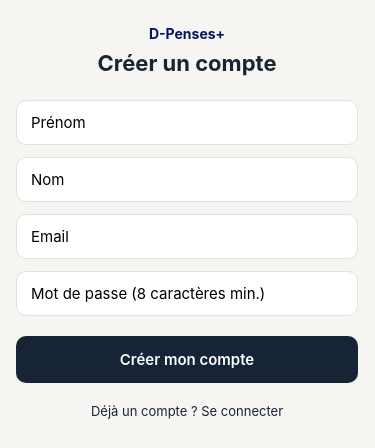
Test: erreur réseau (fetch échoue avant réponse HTTP) → message réseau dédié
Type "Test" into the field with placeholder "Prénom". click: (187, 122)
box: [16,100,358,145]
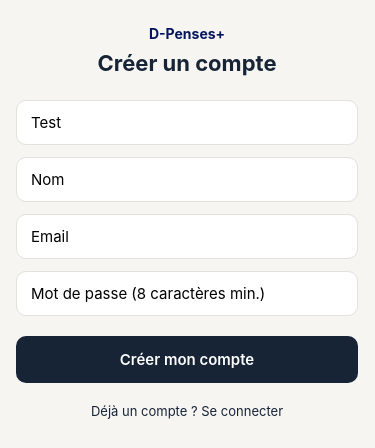
Type "User" into the field with placeholder "Nom". click: (187, 180)
box: [16,157,358,202]
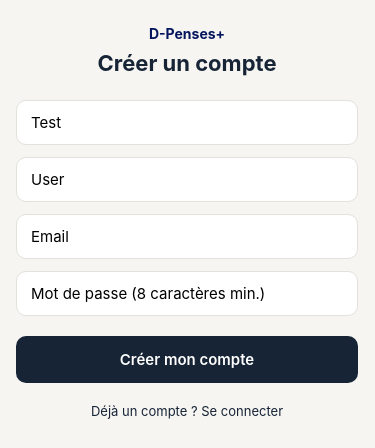
Type "test.user@example.com" into the field with placeholder "Email". click: (187, 236)
box: [16,214,358,259]
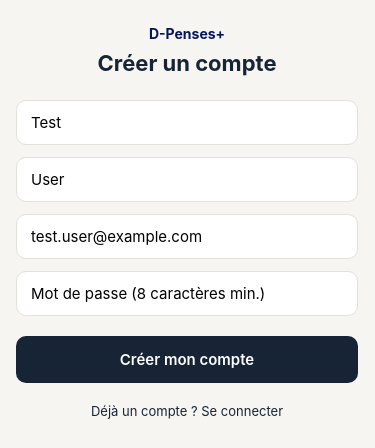
Type "password123" into the password field with placeholder "Mot de passe (8 caractères min.)". click: (187, 294)
box: [16,271,358,316]
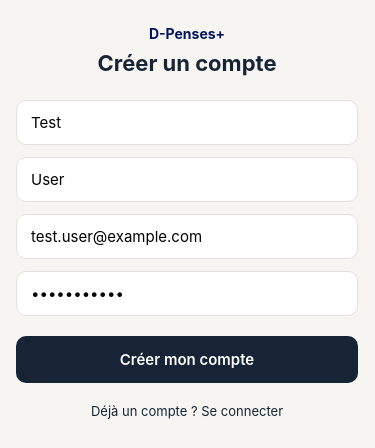
Click the text "Créer mon compte". click: (187, 360)
box: [120,350,254,369]
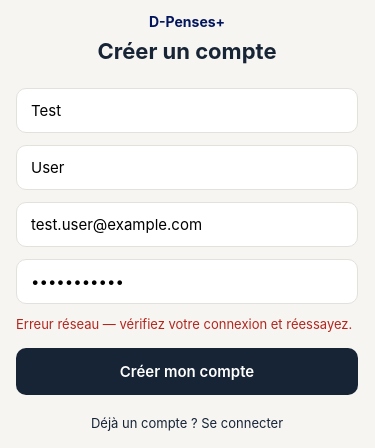
Expected: the text "Erreur réseau — vérifiez votre connexion et réessayez." is shown, [16,316,358,332]
